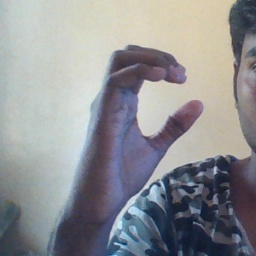C: (93, 38, 209, 161)
